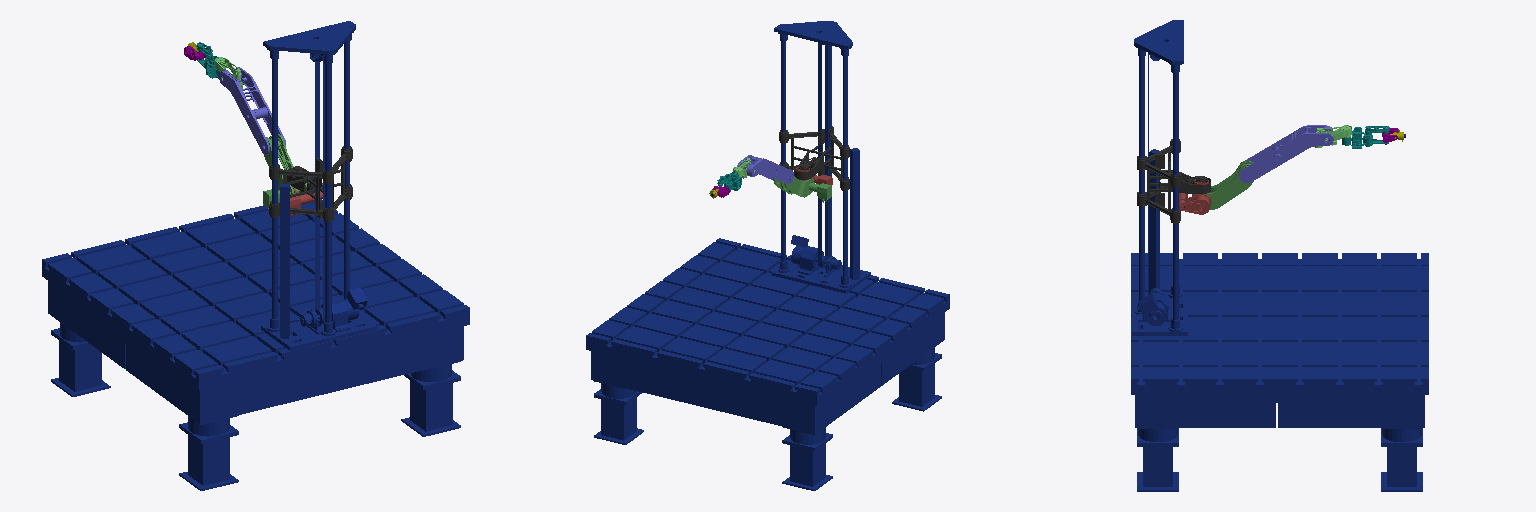
The robot description file, URDF, robot "crops_arm":
<robot name= "crops_arm">
<link name = "base_link"> 
	<visual>
		<geometry>
			<mesh filename="package://crops_wp6_arm_description/mesh/crops_arm/body0.stl" scale="1.000000e-3 1.000000e-3 1.000000e-3"/>
		</geometry>
		<material name="gray">
			<color rgba="0.13 0.23 0.53 1"/>
		</material>
	</visual>
</link>

<link name="body1">
	<visual>
		<origin xyz="0 0 0" rpy="0 0 0"/>
		<geometry>
			<mesh filename="package://crops_wp6_arm_description/mesh/crops_arm/body1.stl" scale="1.000000e-03 1.000000e-03 1.000000e-03"/>
		</geometry>
		<material name="gray_1">
			<color rgba="0.24 0.24 0.24 1"/>
		</material>
	</visual>
</link>

<joint name="joint1" type="prismatic">
	<limit effort="1000" velocity="1000" lower="-0.450000" upper="0.4500000"/>
	<parent link="base_link"/>
	<child link="body1"/>
	<origin xyz="0.000000 0.000000 0.750000" rpy="0.000000 0.000000 0.000000"/>
	<axis xyz="0 0 1"/>
</joint>

<link name="body2">
	<visual>
		<origin xyz="0 0 0" rpy="0 0 0"/>
		<geometry>
			<mesh filename="package://crops_wp6_arm_description/mesh/crops_arm/body2.stl" scale="1.000000e-03 1.000000e-03 1.000000e-03"/>
		</geometry>
		<material name="gray_2">
			<color rgba="0.6 0.30 0.30 1"/>
		</material>
	</visual>
</link>

<joint name="joint2" type="revolute">
	<limit effort="1000" velocity="1000" lower="-1.570796" upper="1.570796"/>
	<parent link="body1"/>
	<child link="body2"/>
	<origin xyz="0.000000 0.100000 -0.100000" rpy="0.000000 0.000000 1.570796"/>
	<axis xyz="0 0 1"/>
</joint>

<link name="body3">
	<visual>
		<origin xyz="0 0 0" rpy="0 0 0"/>
		<geometry>
			<mesh filename="package://crops_wp6_arm_description/mesh/crops_arm/body3.stl" scale="1.000000e-03 1.000000e-03 1.000000e-03"/>
		</geometry>
		<material name="gray_3">
			<color rgba="0.36 0.6 0.36 1"/>
		</material>
	</visual>
</link>

<joint name="joint3" type="revolute">
	<limit effort="1000" velocity="1000" lower="-2.094395" upper="0.349066"/>
	<parent link="body2"/>
	<child link="body3"/>
	<origin xyz="0.000000 0.000000 0.000000" rpy="1.570796 0.000000 0.000000"/>
	<axis xyz="0 0 1"/>
</joint>

<link name="body4">
	<visual>
		<origin xyz="0 0 0" rpy="0 0 0"/>
		<geometry>
			<mesh filename="package://crops_wp6_arm_description/mesh/crops_arm/body4.stl" scale="1.000000e-03 1.000000e-03 1.000000e-03"/>
		</geometry>
		<material name="gray_4">
			<color rgba="0.42 0.42 0.8 1"/>
		</material>
	</visual>
</link>

<joint name="joint4" type="revolute">
	<limit effort="1000" velocity="1000" lower="-0.349066" upper="2.530727"/>
	<parent link="body3"/>
	<child link="body4"/>
	<origin xyz="0.230000 0.150000 0.000000" rpy="0.000000 0.000000 0.000000"/>
	<axis xyz="0 0 1"/>
</joint>

<link name="body5">
	<visual>
		<origin xyz="0 0 0" rpy="0 0 0"/>
		<geometry>
			<mesh filename="package://crops_wp6_arm_description/mesh/crops_arm/body5.stl" scale="1.000000e-03 1.000000e-03 1.000000e-03"/>
		</geometry>
		<material name="gray_5">
			<color rgba="0.48 0.8 0.48 1"/>
		</material>
	</visual>
</link>

<joint name="joint5" type="revolute">
	<limit effort="1000" velocity="1000" lower="-2.094395" upper="2.094395"/>
	<parent link="body4"/>
	<child link="body5"/>
	<origin xyz="0.400000 0.200000 0.000000" rpy="0.000000 0.000000 0.000000"/>
	<axis xyz="0 0 1"/>
</joint>

<link name="body6">
	<visual>
		<origin xyz="0 0 0" rpy="0 0 0"/>
		<geometry>
			<mesh filename="package://crops_wp6_arm_description/mesh/crops_arm/body6.stl" scale="1.000000e-03 1.000000e-03 1.000000e-03"/>
		</geometry>
		<material name="gray_6">
			<color rgba="0.1 0.54 0.54 1"/>
		</material>
	</visual>
</link>

<joint name="joint6" type="revolute">
	<limit effort="1000" velocity="1000" lower="-2.094395" upper="2.094395"/>
	<parent link="body5"/>
	<child link="body6"/>
	<origin xyz="0.100000 0.000000 0.000000" rpy="-1.570796 0.000000 0.000000"/>
	<axis xyz="0 0 1"/>
</joint>

<link name="body7">
	<visual>
		<origin xyz="0 0 0" rpy="0 0 0"/>
		<geometry>
			<mesh filename="package://crops_wp6_arm_description/mesh/crops_arm/body7.stl" scale="1.000000e-03 1.000000e-03 1.000000e-03"/>
		</geometry>
		<material name="gray_7">
			<color rgba="0.60 0.01 0.60 1"/>
		</material>
	</visual>
</link>

<joint name="joint7" type="revolute">
	<limit effort="1000" velocity="1000" lower="-2.007129" upper="2.007129"/>
	<parent link="body6"/>
	<child link="body7"/>
	<origin xyz="0.200000 0.000000 0.000000" rpy="0.000000 0.000000 0.000000"/>
	<axis xyz="0 0 1"/>
</joint>

<link name="body8">
	<visual>
		<origin xyz="0 0 0" rpy="0 0 0"/>
		<geometry>
			<mesh filename="package://crops_wp6_arm_description/mesh/crops_arm/body8.stl" scale="1.000000e-03 1.000000e-03 1.000000e-03"/>
		</geometry>
		<material name="gray_8">
			<color rgba="0.66 0.66 0.02 1"/>
		</material>
	</visual>
</link>

<joint name="joint8" type="revolute">
	<limit effort="1000" velocity="1000" lower="-1.570796" upper="1.570796"/>
	<parent link="body7"/>
	<child link="body8"/>
	<origin xyz="0.045000 0.000000 0.000000" rpy="1.570796 0.000000 0.000000"/>
	<axis xyz="0 0 1"/>
</joint>

<link name="body9">
	<visual>
		<origin xyz="0 0 0" rpy="0 0 0"/>
		<geometry>
			<mesh filename="package://crops_wp6_arm_description/mesh/crops_arm/body9.stl" scale="1.000000e-03 1.000000e-03 1.000000e-03"/>
		</geometry>
		<material name="gray_9">
			<color rgba="0.2 0.1 0.72 1"/>
		</material>
	</visual>
</link>

<joint name="joint9" type="revolute">
	<limit effort="1000" velocity="1000" lower="-3.141593" upper="3.141593"/>
	<parent link="body8"/>
	<child link="body9"/>
	<origin xyz="0.050000 0.000000 0.000000" rpy="0.000000 1.570796 0.000000"/>
	<axis xyz="0 0 1"/>
</joint>

</robot>

--- Render facts (derived) ---
3 views of the same robot in one strip: view 1: azimuth 30°, elevation 25°; view 2: azimuth 150°, elevation 25°; view 3: azimuth 270°, elevation 25° (orthographic).
Model crops_arm with 10 links and 9 joints (8 revolute, 1 prismatic), rooted at base_link, posed every joint at zero.
Visible links, largest first — view 1: base_link, body1, body4, body3; view 2: base_link, body1, body4, body3; view 3: base_link, body1, body4, body3, body6, body2.
Link boxes in pixels (<box>): base_link: <box>42,21,469,490</box>; body1: <box>269,146,352,221</box>; body4: <box>219,67,285,154</box>; body3: <box>263,134,306,208</box>; base_link: <box>586,21,949,490</box>; body1: <box>779,126,849,190</box>; body4: <box>737,155,793,183</box>; body3: <box>773,169,831,202</box>; base_link: <box>1131,20,1428,491</box>; body1: <box>1137,139,1210,223</box>; body4: <box>1239,125,1333,182</box>; body3: <box>1196,161,1253,209</box>; body6: <box>1342,126,1389,148</box>; body2: <box>1179,179,1211,214</box>.
Bounding box of the posed robot: 1.5 × 1.5 × 2.17 m (x, y, z).
10 mesh visuals loaded from 10 distinct referenced files (10 binary STL).